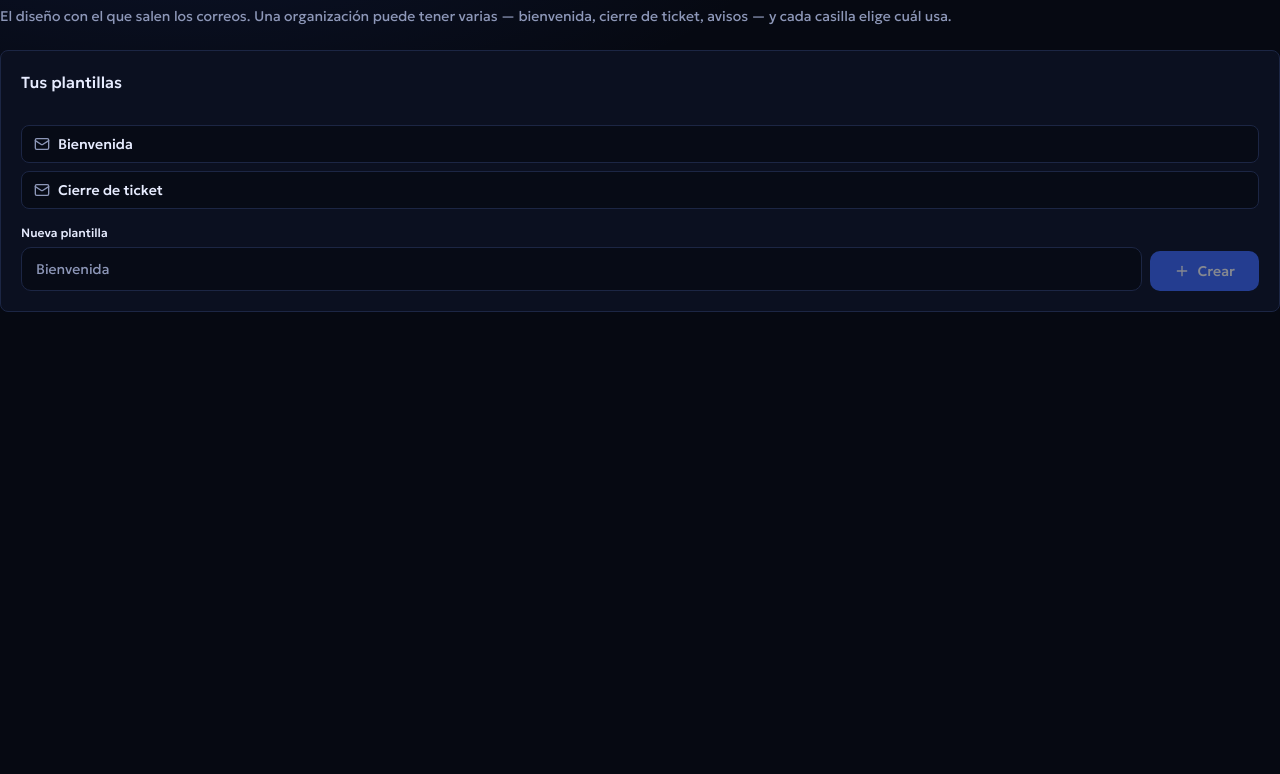
Test case: Plantillas de correo › manda la prueba por la casilla y a la dirección elegidas
Click the button "Bienvenida" at (95, 144), box 21,125 -> 1259,163
(page scrolled)
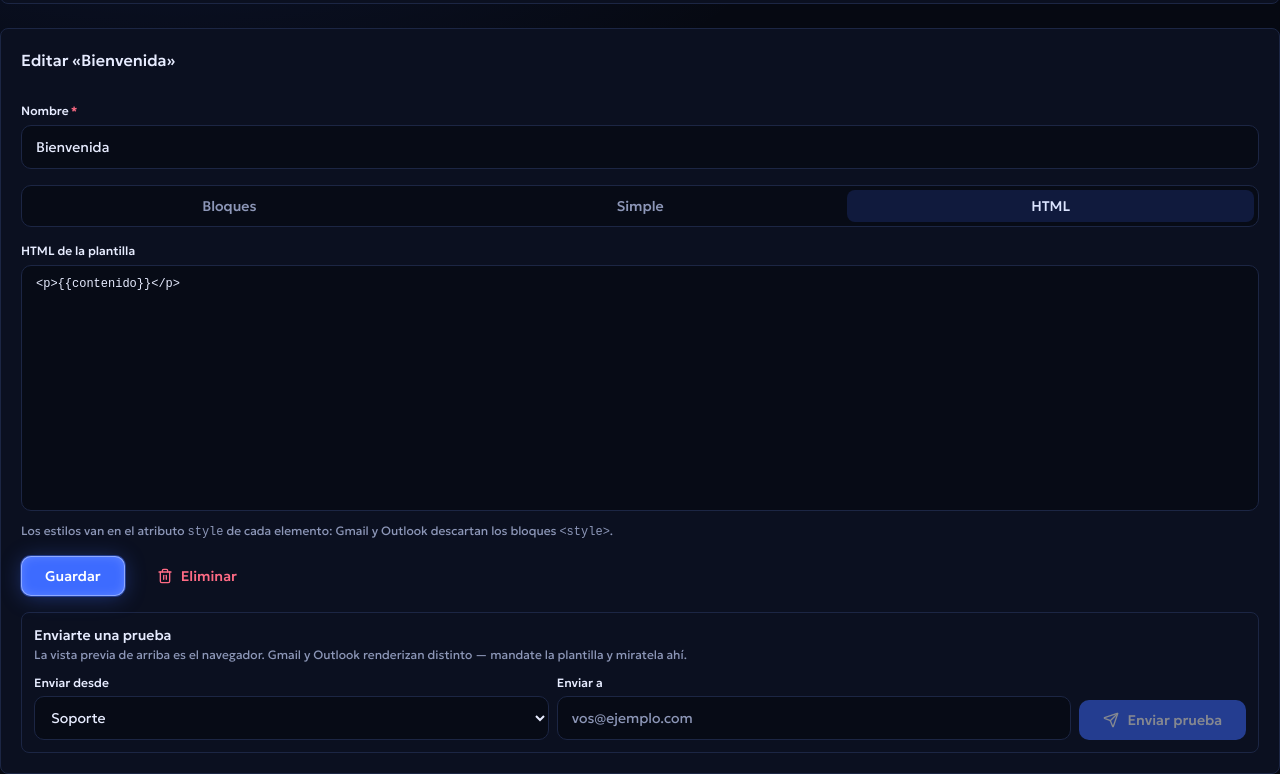
Type "vos@x.com" into the field labelled "Enviar a" at (814, 718), box 557,696 -> 1071,740
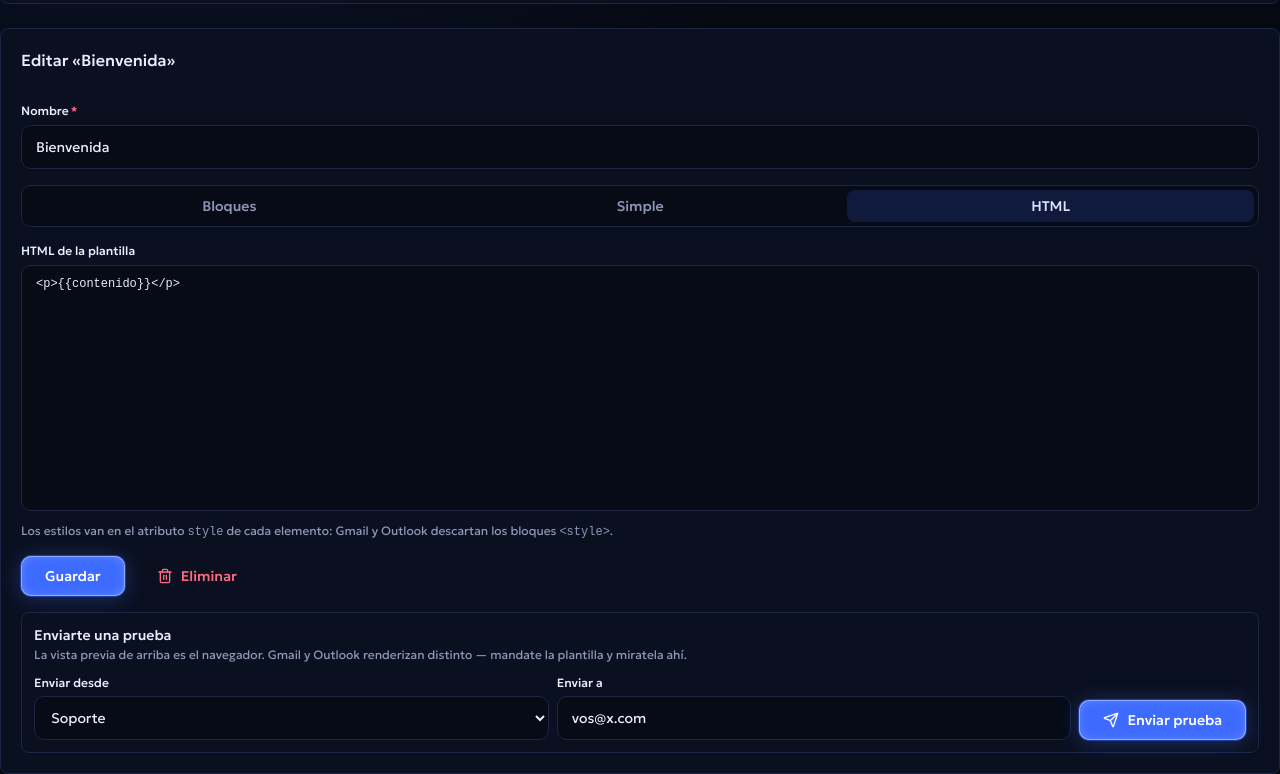
Click the button "Enviar prueba" at (1163, 720), box 1079,700 -> 1246,740
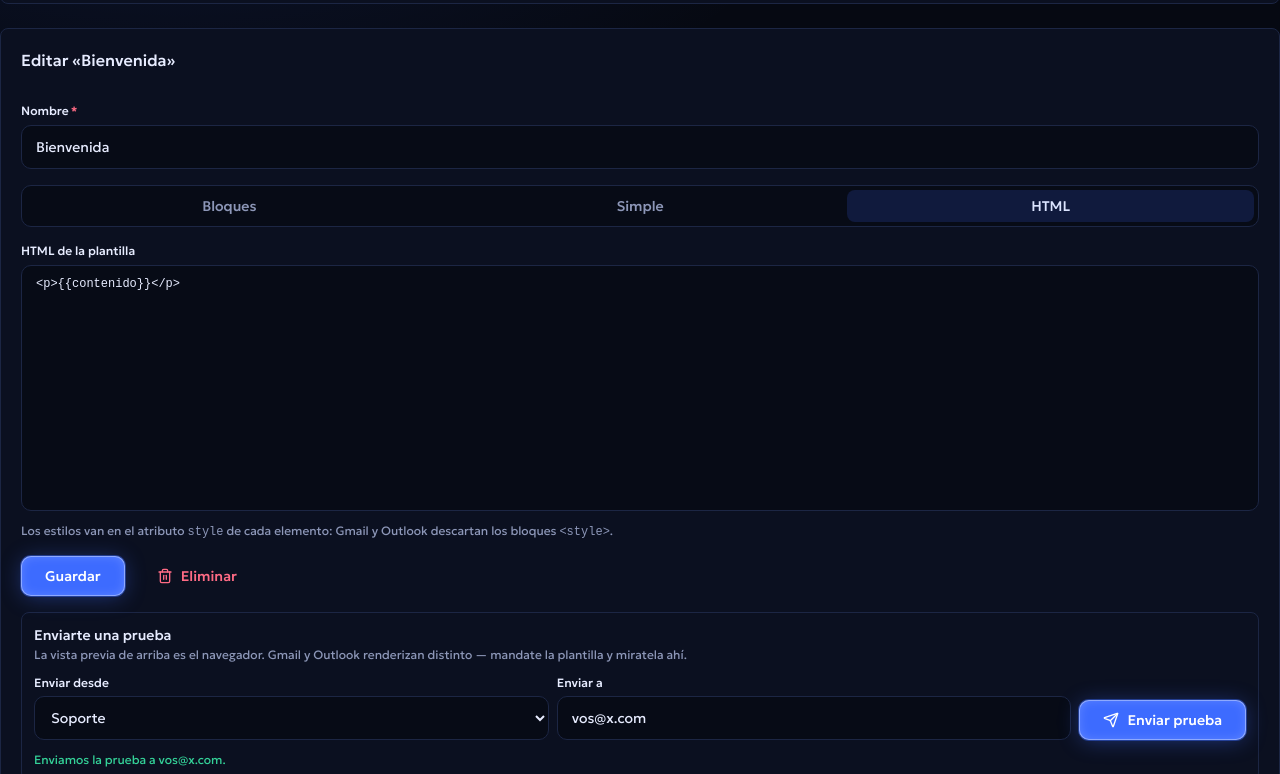
Check: the message shows "Enviamos", box 34,752 -> 226,767
